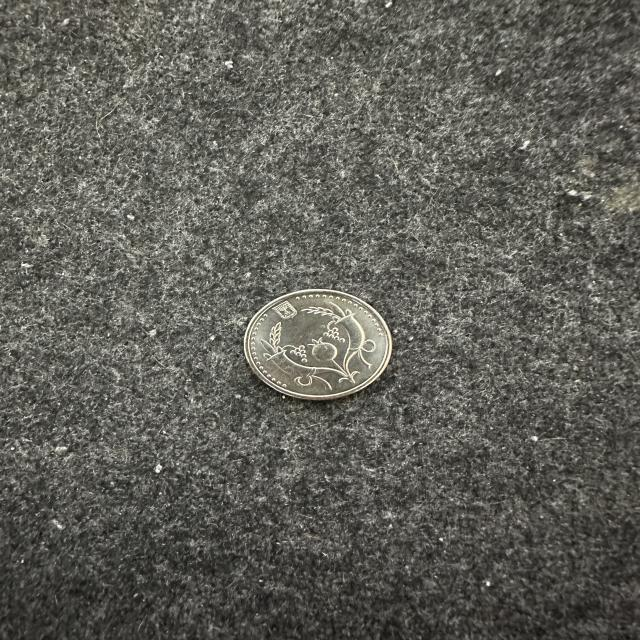2-shekel: (240, 289, 399, 402)
